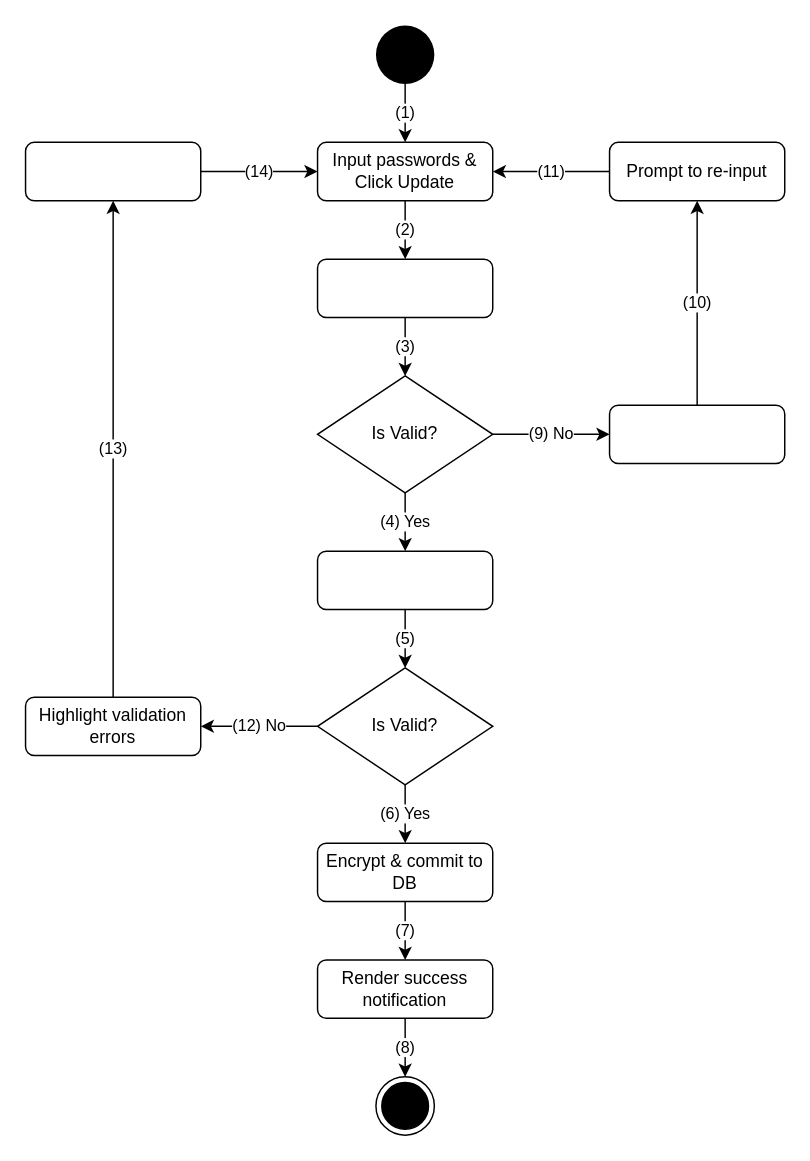
This 810x1161 diagram has some shape labels left out. The shapes that lost their labels are listed below. From the top down, each one's box as (x1, y1, x2, y2) in pixels, then its label:
(24, 141, 201, 201): Prompt to correct
(316, 258, 493, 318): Validate current password
(608, 404, 785, 464): Display error warning
(316, 550, 493, 610): Check complexity & match
